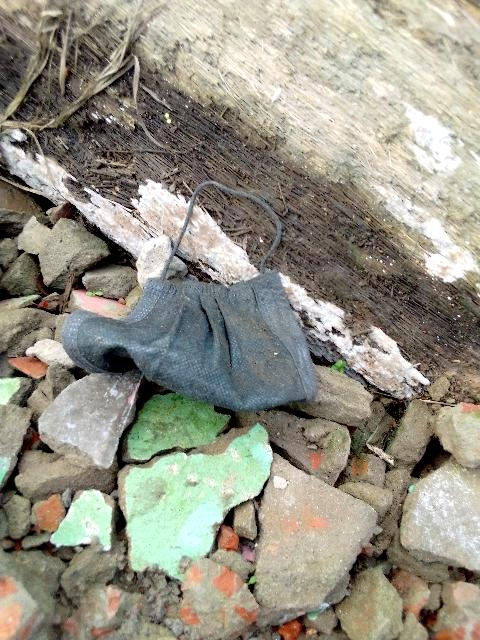mask: (64, 270, 313, 403)
